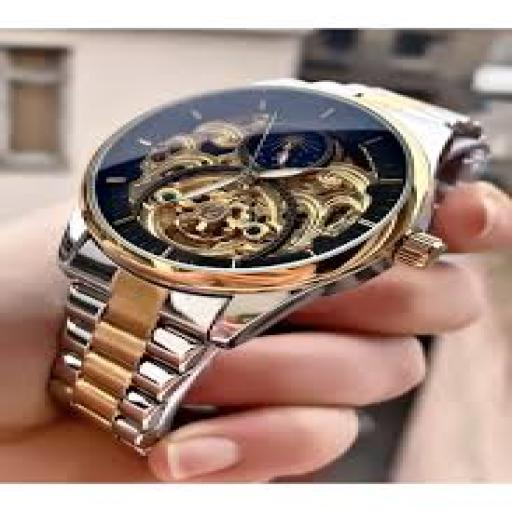KolSaati: (13, 35, 497, 458)
